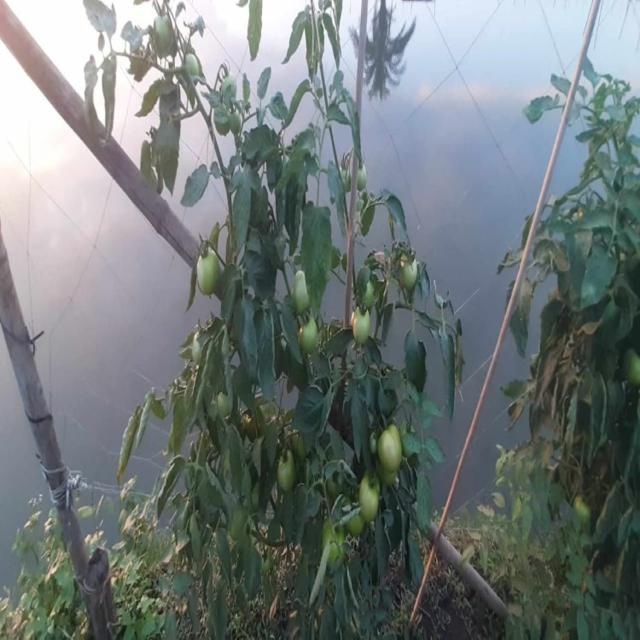tomato: (315, 519, 358, 587), (351, 468, 389, 522), (286, 263, 322, 319), (189, 249, 227, 297), (378, 425, 413, 474), (331, 157, 374, 195), (395, 258, 430, 295), (301, 313, 327, 353), (344, 505, 372, 542), (355, 277, 382, 309), (348, 312, 379, 338), (622, 341, 640, 385), (277, 448, 296, 488), (220, 71, 244, 98), (182, 56, 203, 82), (151, 10, 171, 32), (214, 393, 231, 414)
